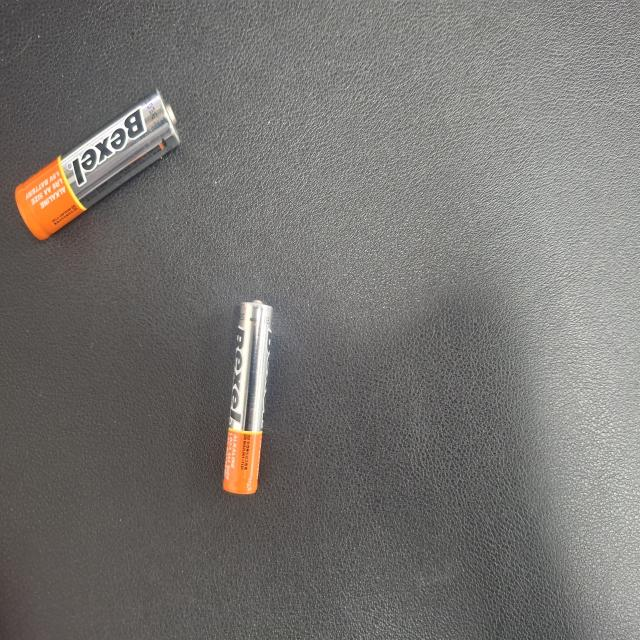AAA: (225, 488, 370, 556)
